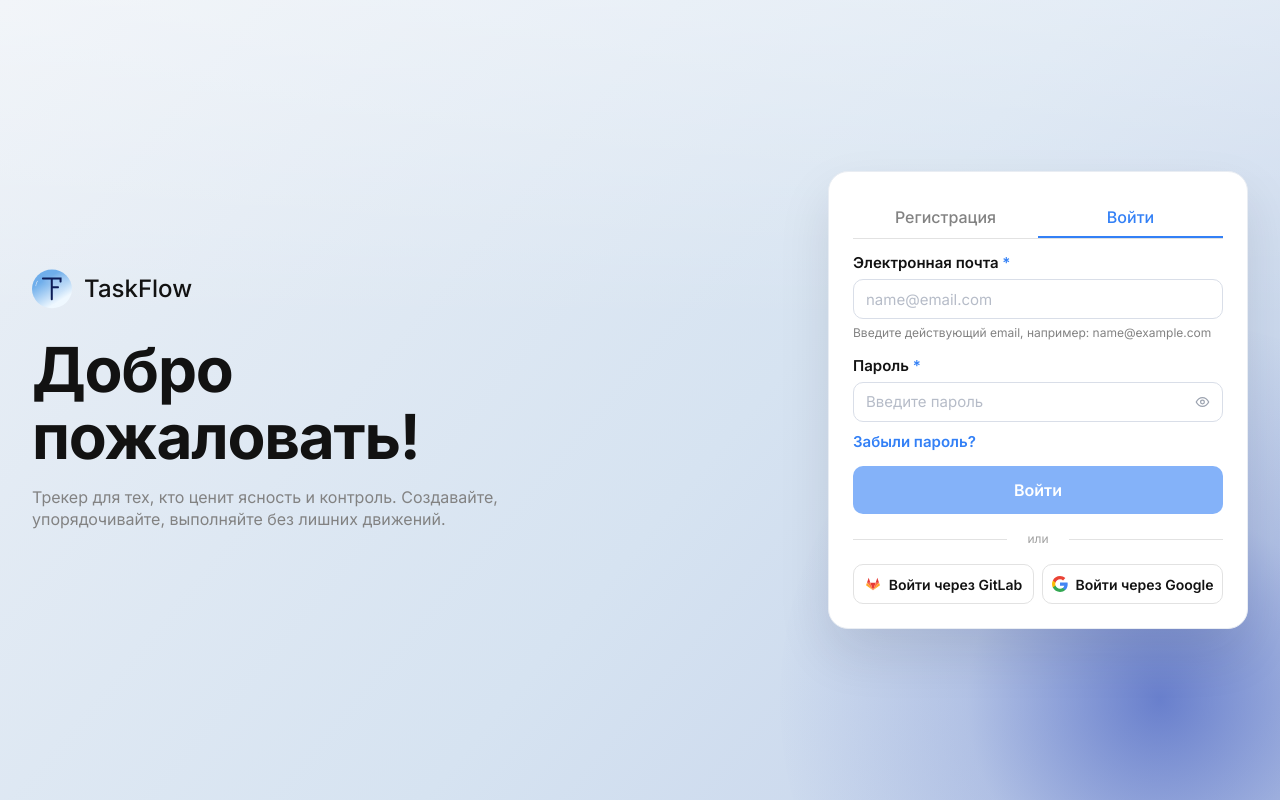
Test case: LoginPage register validation errors › shows backend error text when account is blocked after failed logins
Type "existing_user@mail.ru" into the field with placeholder "name@email.com" at point(1038, 300), box [866,289,1210,310]
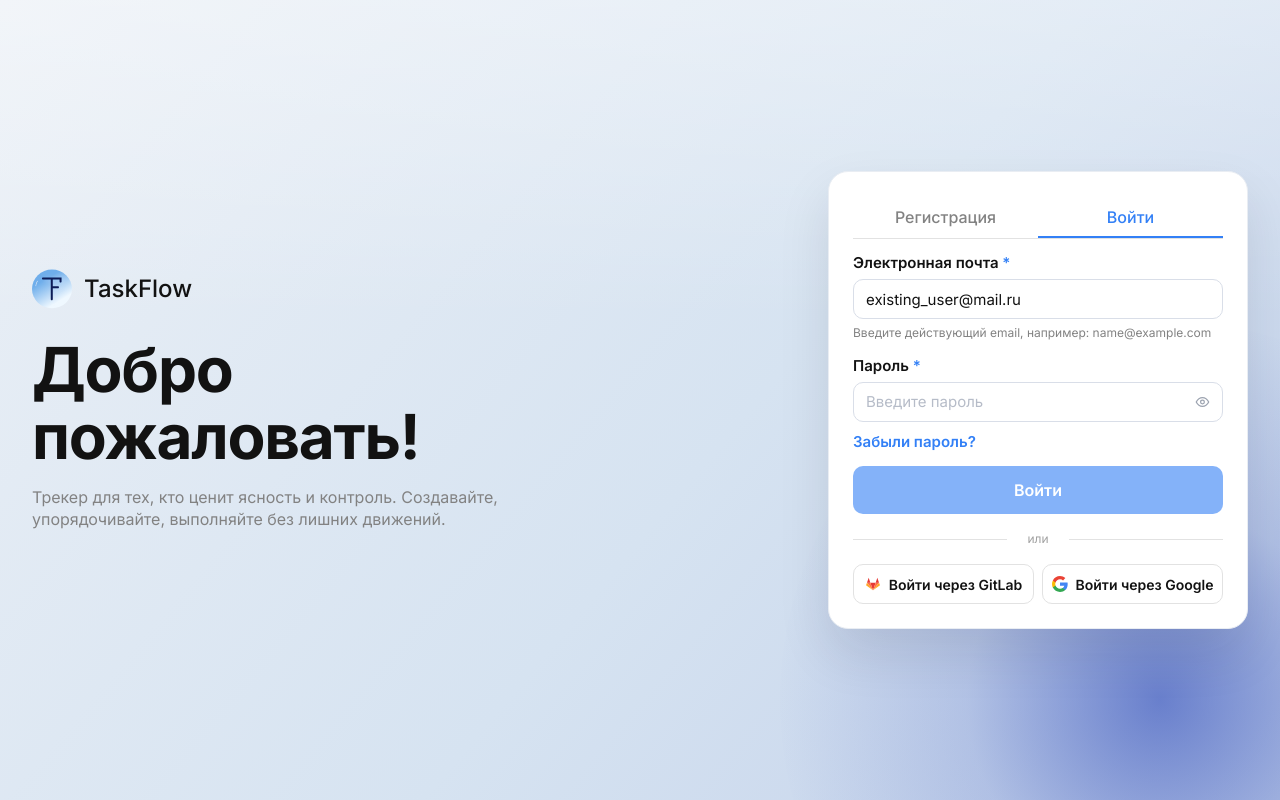
Type "WrongPassword1!" into the password field with placeholder "Введите пароль" at point(1027, 402), box [866,391,1187,413]
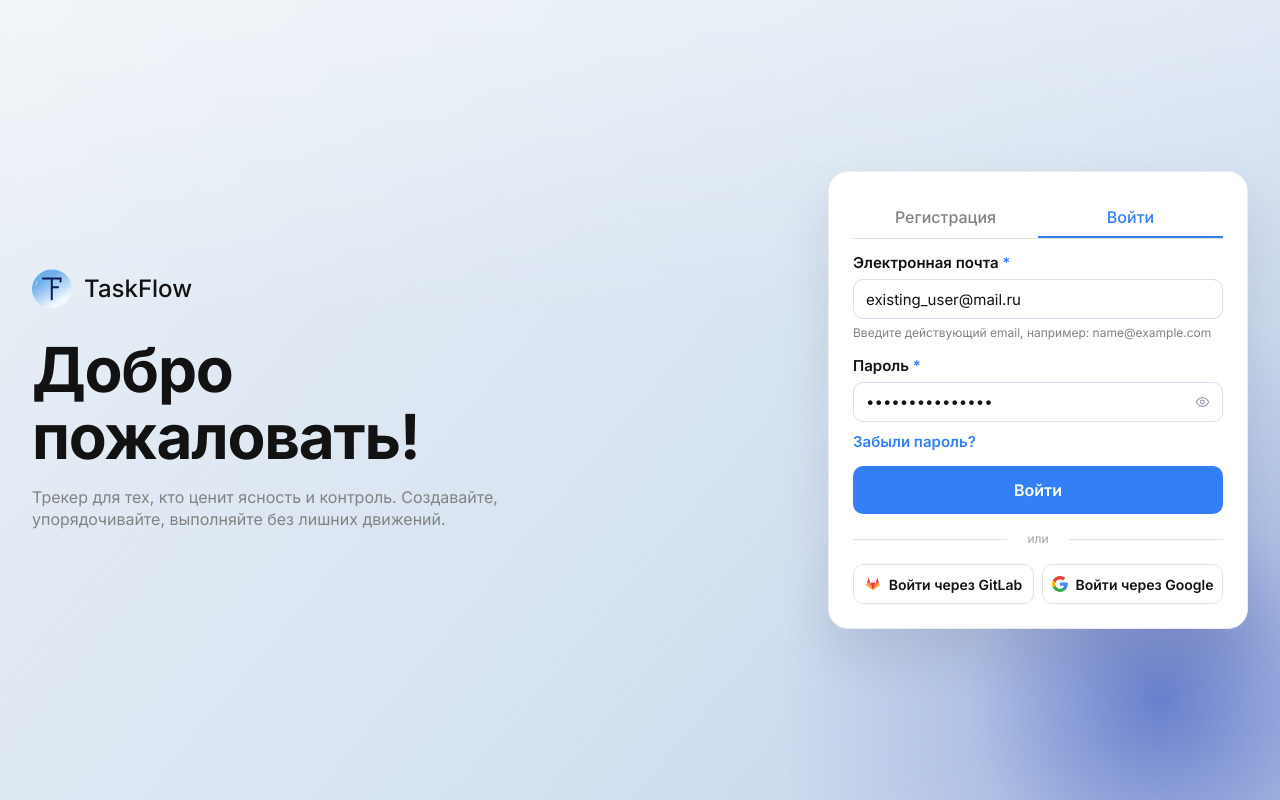
Click the button "Войти" at point(1038, 490), box [853,466,1223,514]
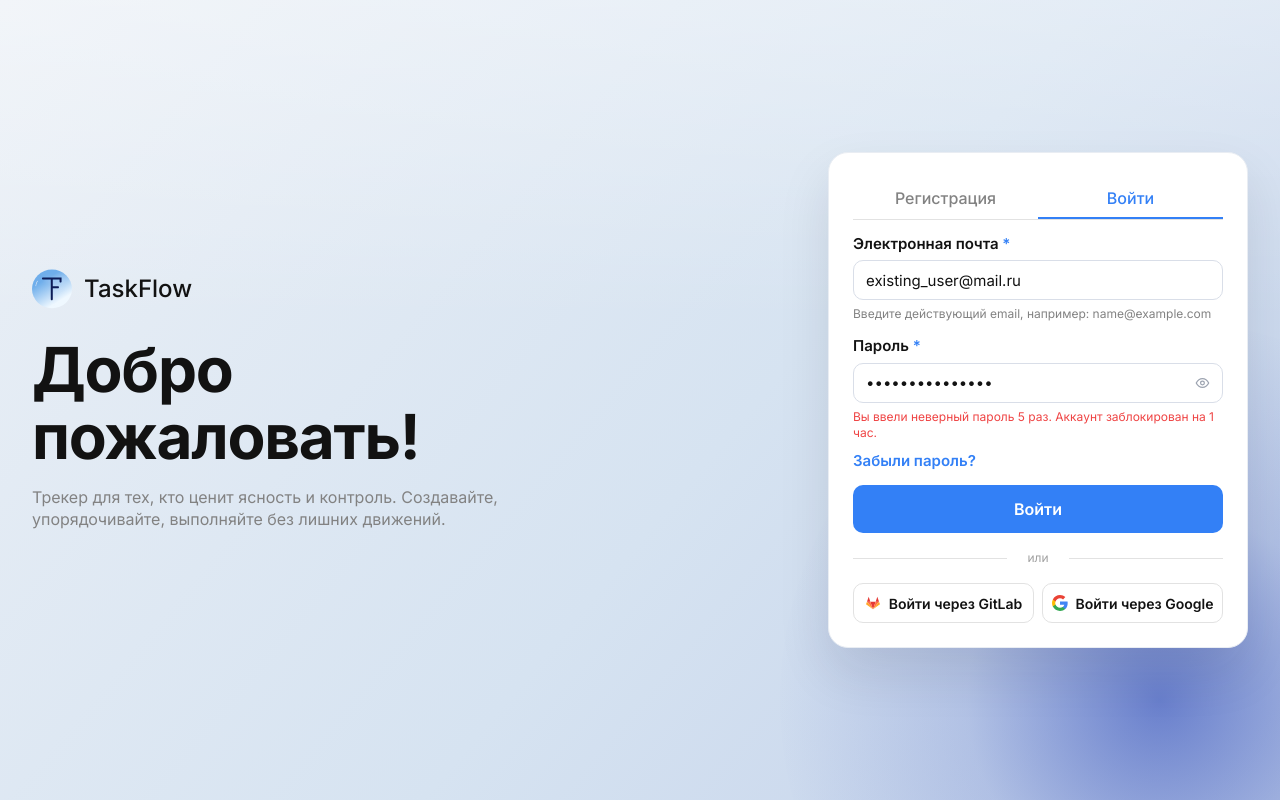
Check: the text "Вы ввели неверный пароль 5 раз. Аккаунт заблокирован на 1 час." is shown, box [853,409,1223,441]
